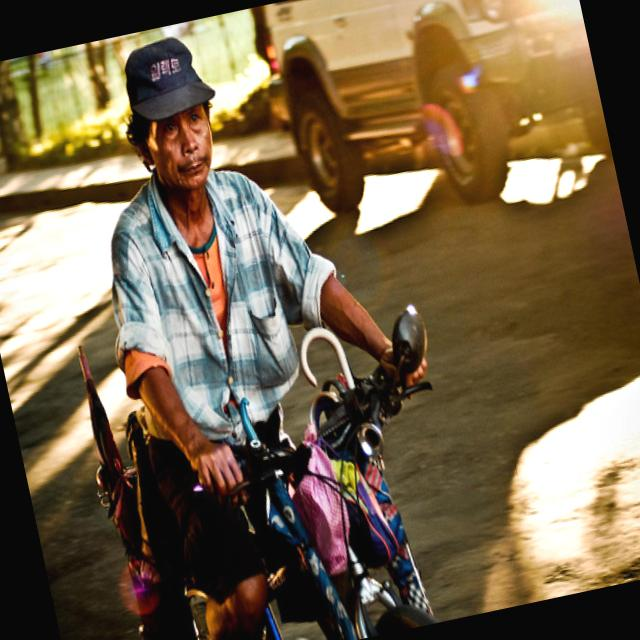Vehicle: (57, 287, 491, 640), (260, 0, 616, 242), (262, 0, 612, 226)
